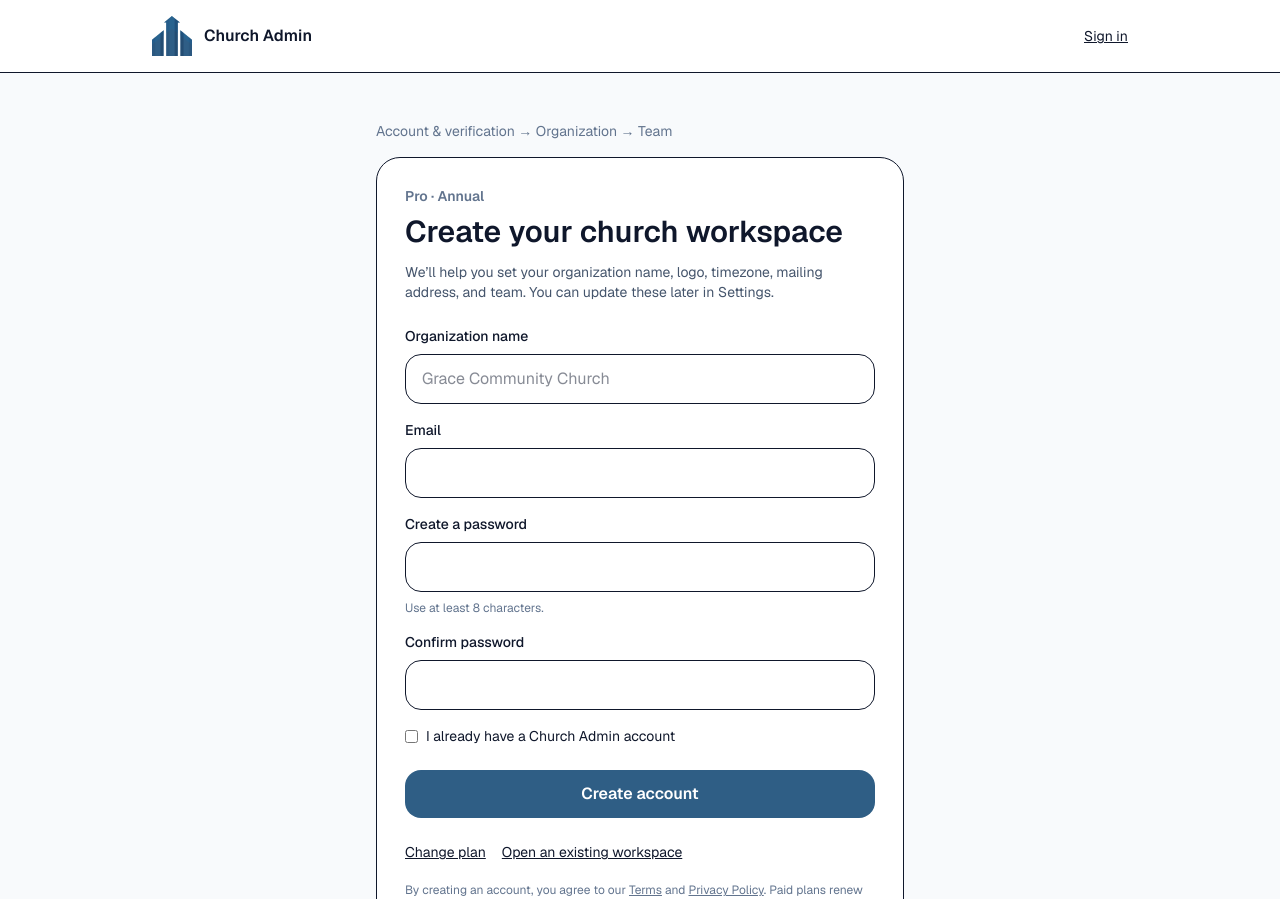
Test case: requires email verification and never stores passwords in the draft
Type "Grace Church" into the field labelled "Organization name" at point(640, 379), box 405,354 -> 875,404
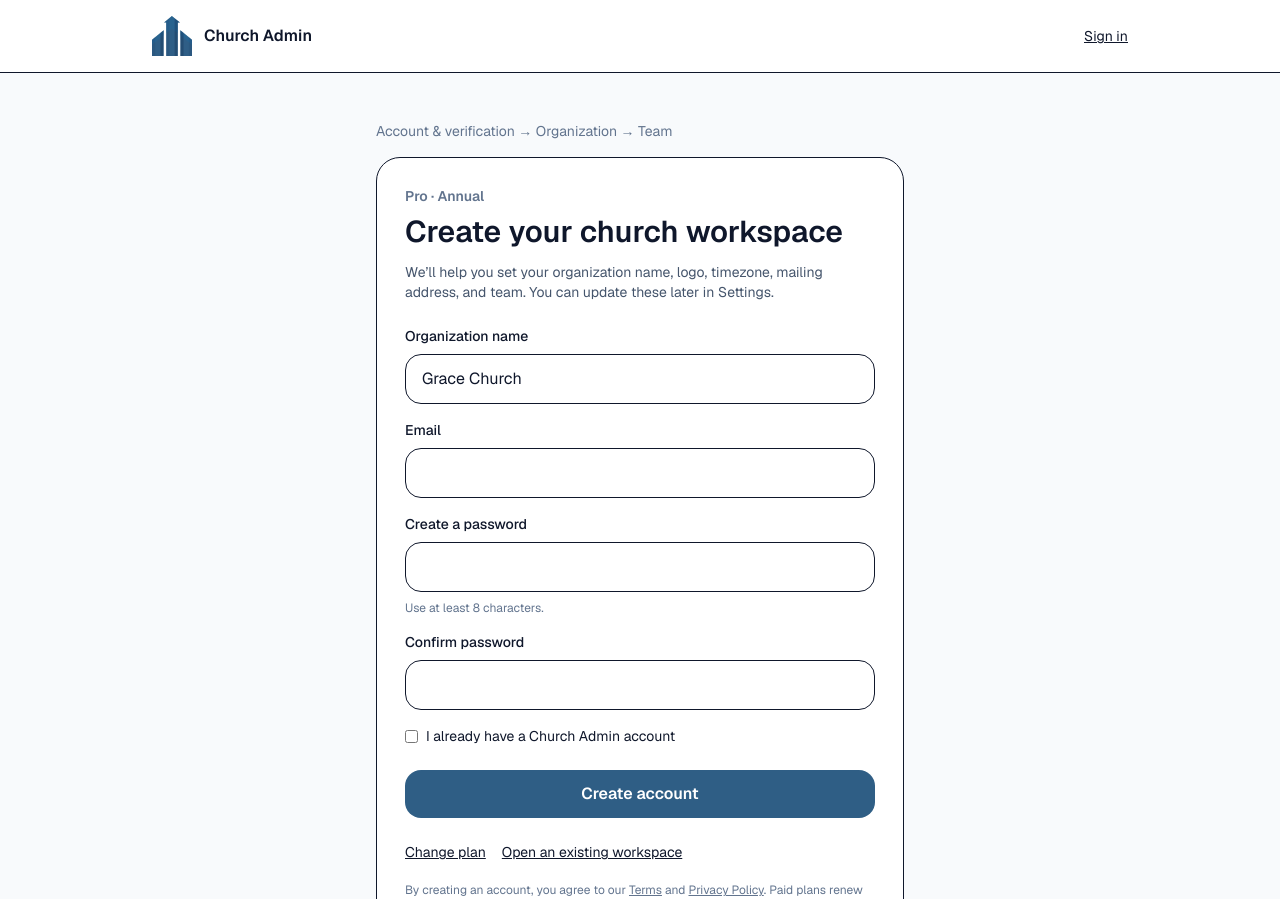
Type "owner@example.invalid" into the field labelled "Email" at point(640, 473), box 405,448 -> 875,498
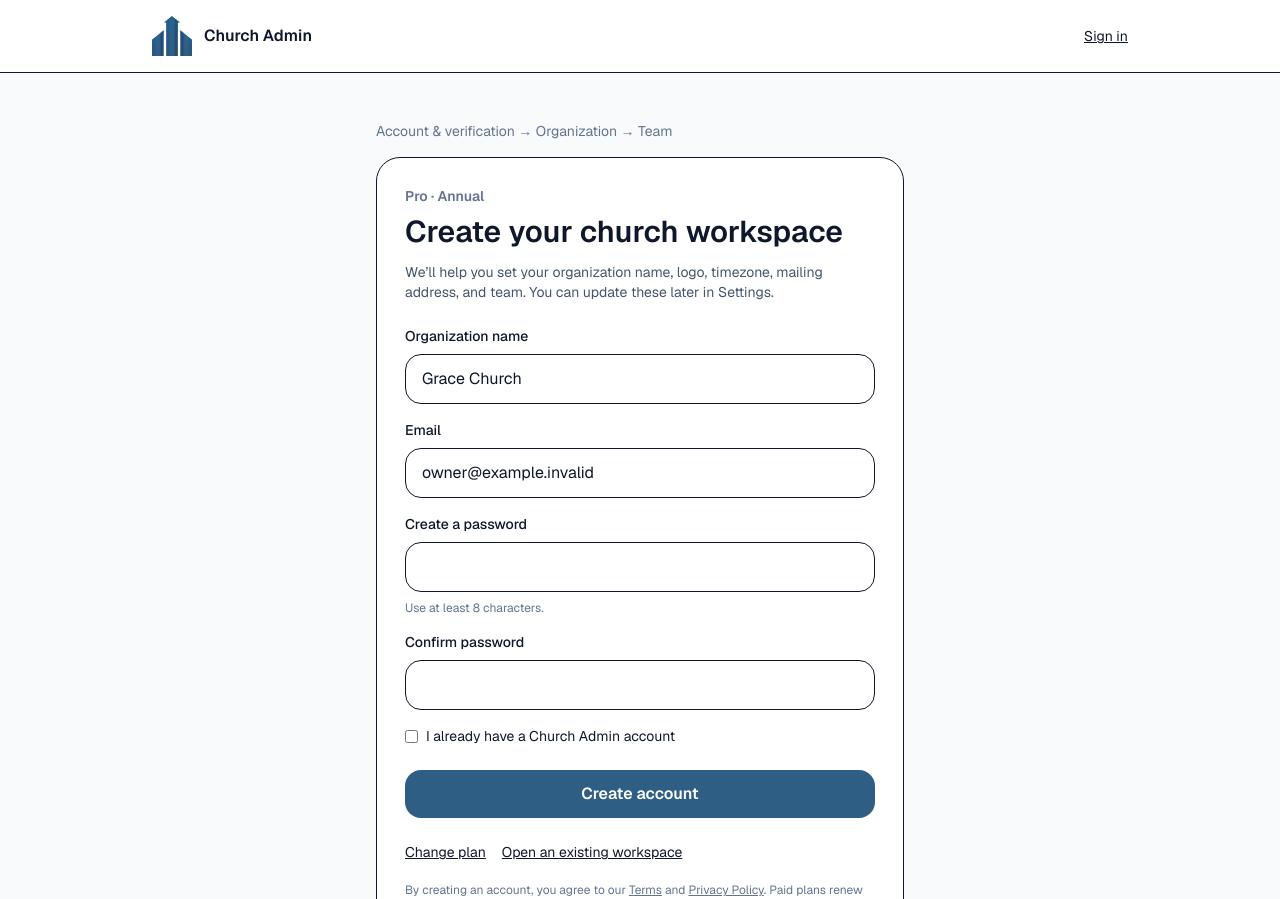
Type "test-password" into the password field labelled "Create a password" at point(640, 567), box 405,542 -> 875,592
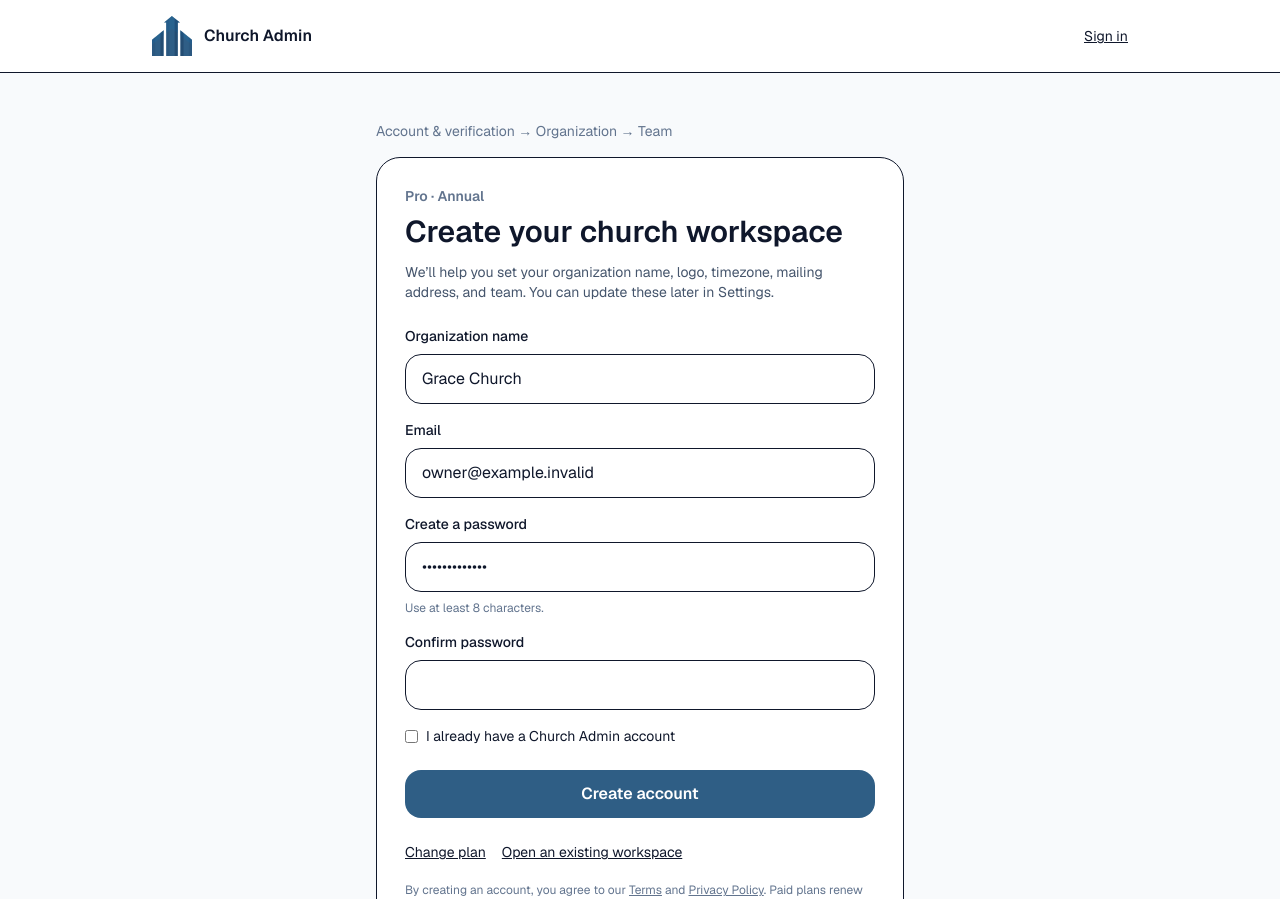
Type "test-password" into the password field labelled "Confirm password" at point(640, 685), box 405,660 -> 875,710
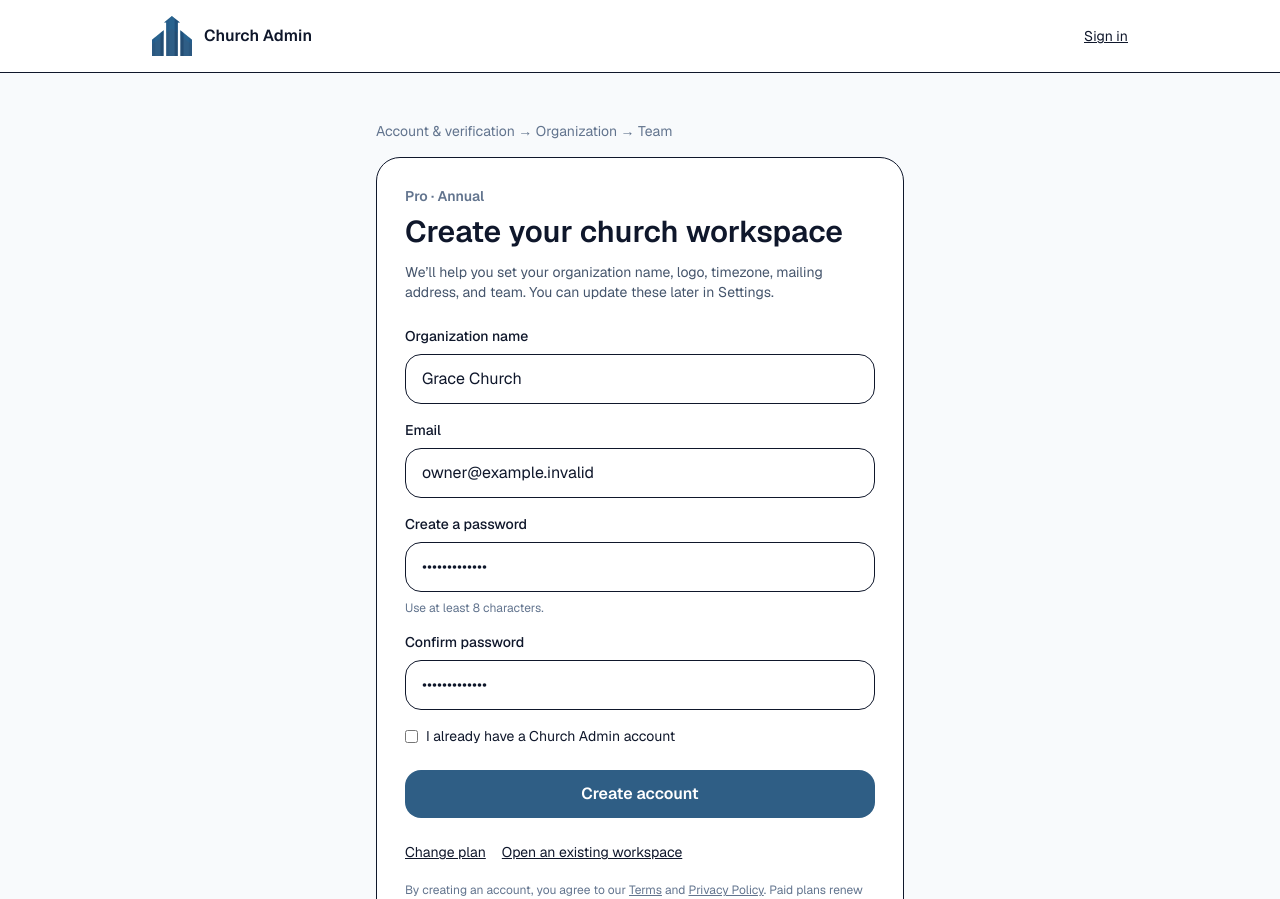
Click the button "Create account" at point(640, 794), box 405,770 -> 875,818
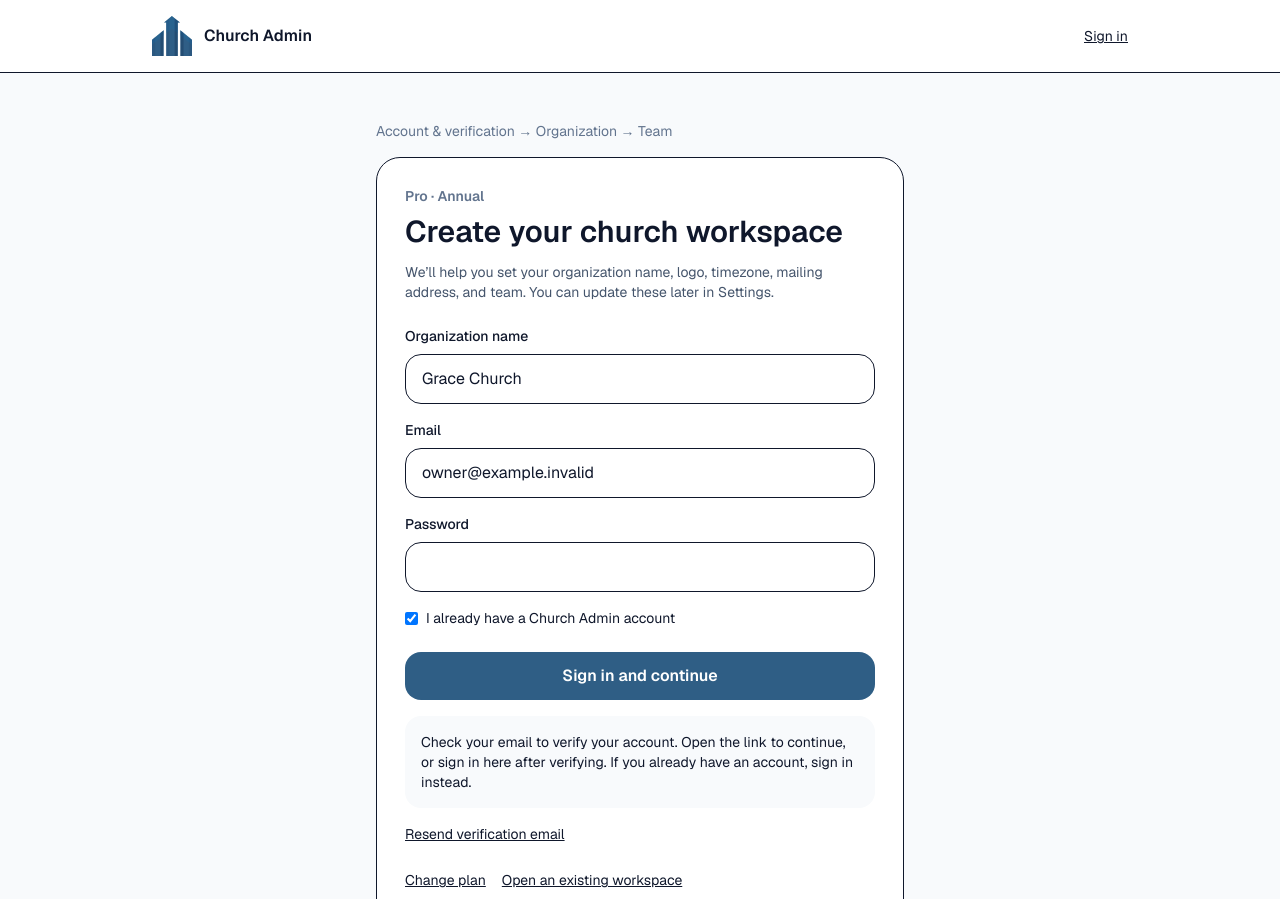
Expected: the button "Resend verification email" is shown, 405,824 -> 565,844
Expected: the password field labelled "Password" is empty, 405,542 -> 875,592
